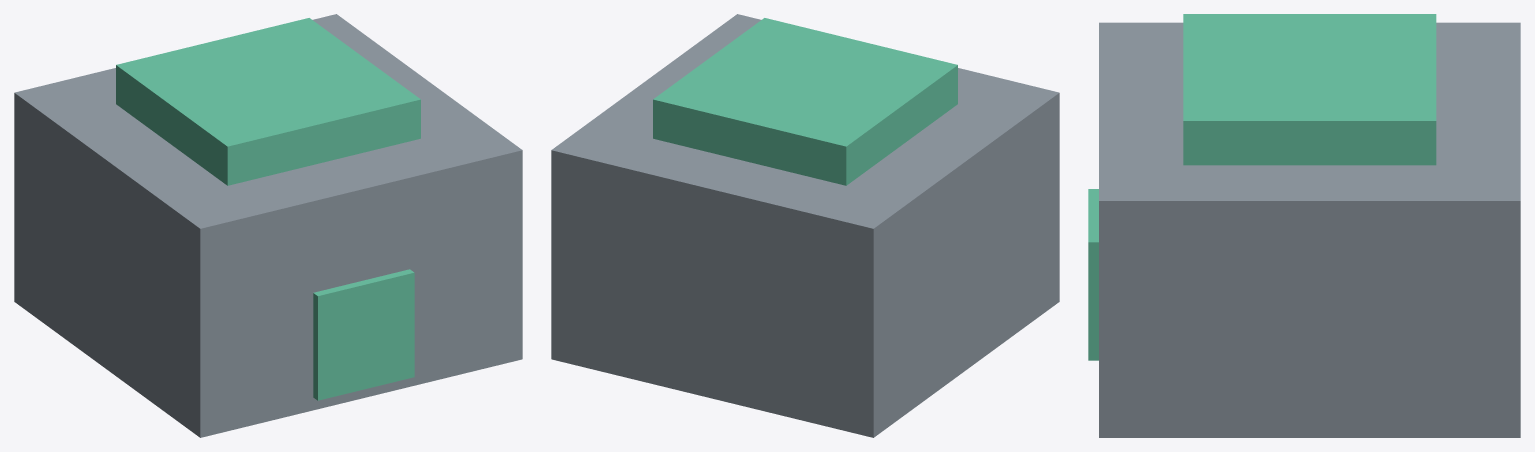
Rendered from CO_GunTurret_LOD0.glb.
The picture shows the model from 3 angles, left to right: view 1: azimuth 30°, elevation 25°; view 2: azimuth 150°, elevation 25°; view 3: azimuth 270°, elevation 25°; orthographic projection. The views are drawn at different scales.
Parts seen in each view (by area): view 1: EntranceGate; view 2: EntranceGate; view 3: EntranceGate.
Part boxes in pixels (x1,y1,x2,y2): EntranceGate: [14, 14, 522, 437]; EntranceGate: [551, 14, 1059, 437]; EntranceGate: [1088, 14, 1520, 437].
Bounding box in the file's own units: 400 × 295 × 410.
